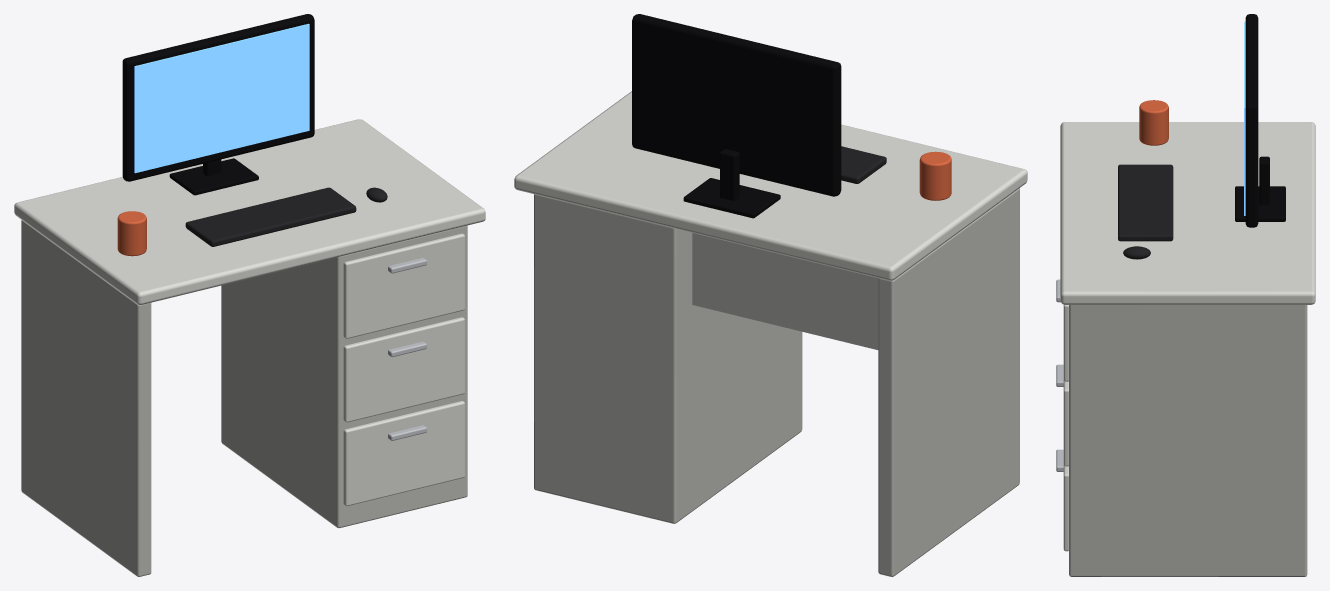
Rendered from computer_desk.glb.
3 renders of one model, left to right at view 1: azimuth 30°, elevation 25°; view 2: azimuth 150°, elevation 25°; view 3: azimuth 270°, elevation 25°, orthographic. The views are drawn at different scales.
Visible parts, largest first — view 1: Cube, Cube.001, Cube.002, Cube.013, Cube.007, Cube.005, Cube.003, Cube.012, Cube.014, Cube.010, Cylinder; view 2: Cube.002, Cube.001, Cube, Cube.012, Cube.009, Cube.010, Cylinder, Cube.014, Cube.011; view 3: Cube.002, Cube, Cube.014, Cube.012, Cylinder, Cube.010, Cube.011, Cube.005, Cube.007, Cube.003, Cube.013.
Boxes of the visible parts, x1=… form: Cube: x1=14, y1=119, x2=485, y2=304; Cube.001: x1=21, y1=220, x2=151, y2=576; Cube.002: x1=221, y1=225, x2=467, y2=528; Cube.013: x1=134, y1=23, x2=309, y2=173; Cube.007: x1=343, y1=401, x2=464, y2=506; Cube.005: x1=343, y1=317, x2=464, y2=422; Cube.003: x1=343, y1=233, x2=464, y2=338; Cube.012: x1=122, y1=14, x2=314, y2=181; Cube.014: x1=185, y1=187, x2=356, y2=246; Cube.010: x1=169, y1=158, x2=258, y2=195; Cylinder: x1=117, y1=211, x2=146, y2=256; Cube.002: x1=534, y1=194, x2=802, y2=523; Cube.001: x1=878, y1=188, x2=1019, y2=576; Cube: x1=514, y1=91, x2=1027, y2=280; Cube.012: x1=632, y1=14, x2=841, y2=196; Cube.009: x1=692, y1=233, x2=878, y2=349; Cube.010: x1=683, y1=178, x2=780, y2=218; Cylinder: x1=919, y1=151, x2=951, y2=200; Cube.014: x1=841, y1=146, x2=886, y2=183; Cube.011: x1=720, y1=149, x2=739, y2=200; Cube.002: x1=1069, y1=305, x2=1307, y2=576; Cube: x1=1060, y1=122, x2=1315, y2=304; Cube.014: x1=1118, y1=164, x2=1173, y2=241; Cube.012: x1=1245, y1=14, x2=1258, y2=227; Cylinder: x1=1139, y1=100, x2=1168, y2=145; Cube.010: x1=1235, y1=186, x2=1285, y2=221; Cube.011: x1=1259, y1=156, x2=1269, y2=205; Cube.005: x1=1063, y1=380, x2=1068, y2=466; Cube.007: x1=1063, y1=465, x2=1068, y2=551; Cube.003: x1=1063, y1=304, x2=1068, y2=381; Cube.013: x1=1244, y1=21, x2=1245, y2=215.
Bounding box in the file's own units: 0.96 × 1.14 × 0.61.
